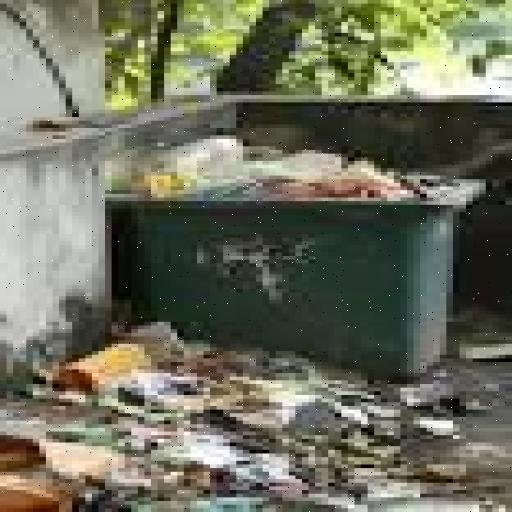poubelle_pleine: (90, 130, 512, 398)
